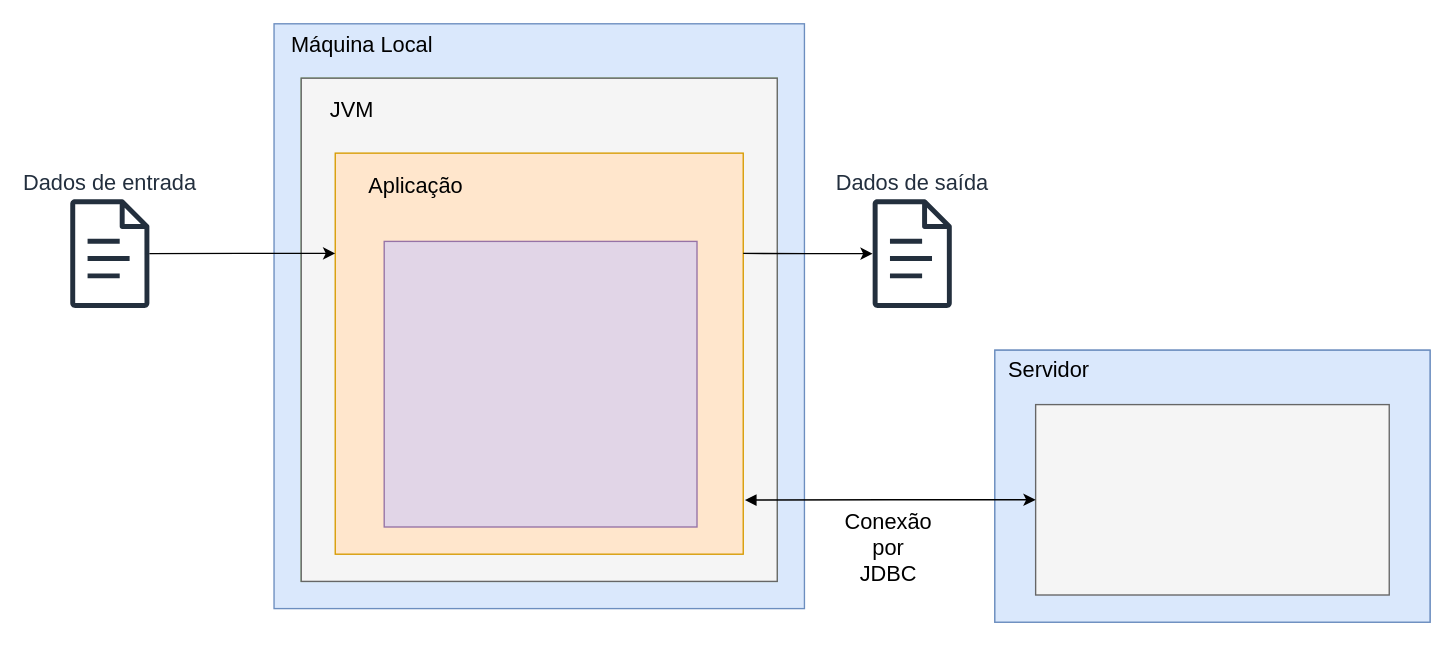
This 1454x646 diagram has some shape labels left out. The box of each missing label's shape, as (x1, y1, x2, y2) in pixels:
Base de dados PostgreSQL: (1034, 403, 1389, 595)
Interface Gráfica: (383, 240, 697, 527)
